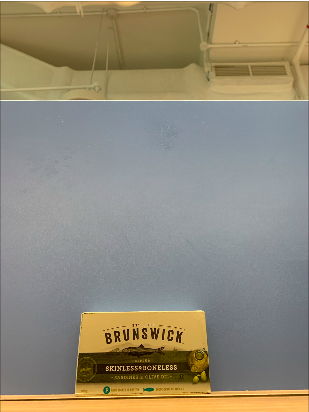Sardines_100-199g: (78, 316, 208, 393)
